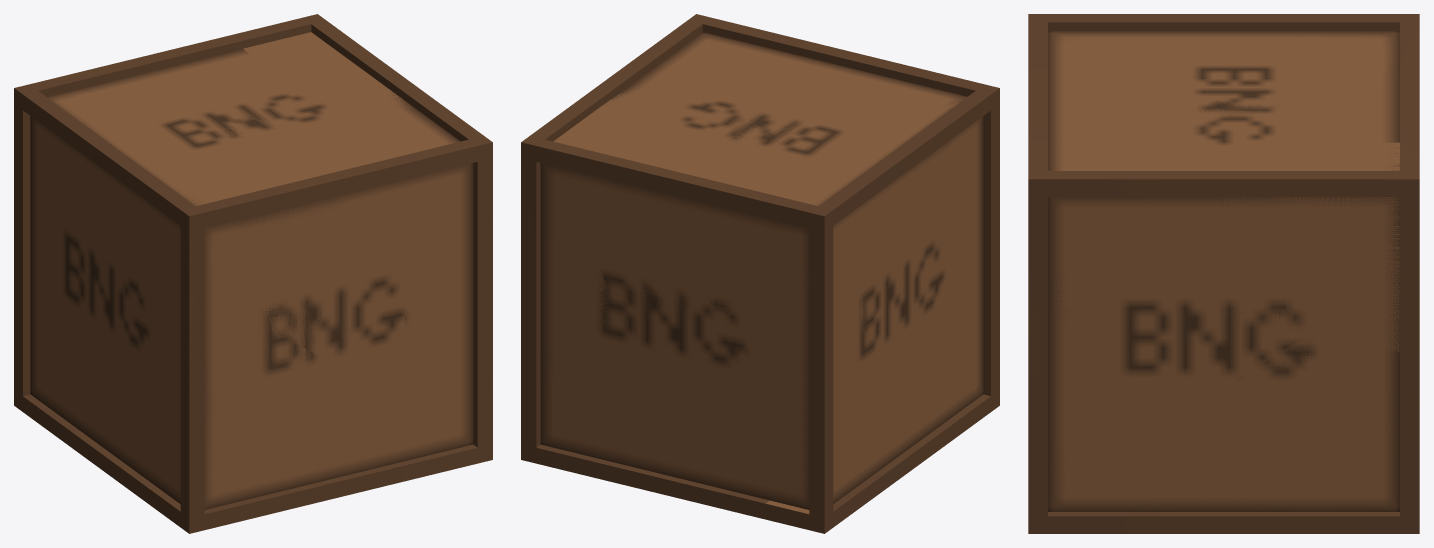
File: BNG_Crate.fbx
3 renders of one model, left to right at view 1: azimuth 30°, elevation 25°; view 2: azimuth 150°, elevation 25°; view 3: azimuth 270°, elevation 25°, orthographic. The views are drawn at different scales.
Parts seen in each view (by area): view 1: BNG_Crate_01, BNG_Crate_01_D26, BNG_Crate_01_D13, BNG_Crate_01_D18, BNG_Crate_01_D21, BNG_Crate_01_D17, BNG_Crate_01_D01, BNG_Crate_01_D28, BNG_Crate_01_D20, BNG_Crate_01_D06, BNG_Crate_01_D22, BNG_Crate_01_D09 (+6 smaller); view 2: BNG_Crate_01, BNG_Crate_01_D18, BNG_Crate_01_D08, BNG_Crate_01_D21, BNG_Crate_01_D07, BNG_Crate_01_D03, BNG_Crate_01_D29, BNG_Crate_01_D19, BNG_Crate_01_D28, BNG_Crate_01_D09, BNG_Crate_01_D22, BNG_Crate_01_D04 (+4 smaller); view 3: BNG_Crate_01, BNG_Crate_01_D02, BNG_Crate_01_D04, BNG_Crate_01_D18, BNG_Crate_01_D21, BNG_Crate_01_D15, BNG_Crate_01_D10, BNG_Crate_01_D28, BNG_Crate_01_D20, BNG_Crate_01_D11, BNG_Crate_01_D24, BNG_Crate_01_D19 (+5 smaller).
Boxes of the visible parts, x1,y1,x2,y2 form: BNG_Crate_01: (14, 14, 492, 533); BNG_Crate_01_D26: (189, 255, 336, 533); BNG_Crate_01_D13: (265, 222, 492, 515); BNG_Crate_01_D18: (185, 86, 492, 222); BNG_Crate_01_D21: (79, 48, 334, 177); BNG_Crate_01_D17: (227, 155, 492, 279); BNG_Crate_01_D01: (268, 223, 404, 351); BNG_Crate_01_D28: (243, 32, 411, 107); BNG_Crate_01_D20: (86, 111, 212, 205); BNG_Crate_01_D06: (141, 247, 204, 533); BNG_Crate_01_D22: (14, 100, 83, 435); BNG_Crate_01_D09: (58, 120, 225, 255); BNG_Crate_01: (521, 24, 999, 533); BNG_Crate_01_D18: (638, 14, 971, 126); BNG_Crate_01_D08: (588, 156, 780, 279); BNG_Crate_01_D21: (622, 84, 906, 196); BNG_Crate_01_D07: (745, 196, 824, 531); BNG_Crate_01_D03: (564, 242, 774, 521); BNG_Crate_01_D29: (521, 140, 612, 301); BNG_Crate_01_D19: (521, 290, 608, 465); BNG_Crate_01_D28: (553, 84, 664, 157); BNG_Crate_01_D09: (866, 81, 999, 236); BNG_Crate_01_D22: (824, 184, 872, 533); BNG_Crate_01_D04: (521, 63, 650, 304); BNG_Crate_01: (1028, 14, 1419, 533); BNG_Crate_01_D02: (1130, 333, 1406, 532); BNG_Crate_01_D04: (1160, 171, 1419, 356); BNG_Crate_01_D18: (1028, 29, 1285, 196); BNG_Crate_01_D21: (1136, 47, 1399, 142); BNG_Crate_01_D15: (1028, 268, 1135, 516); BNG_Crate_01_D10: (1028, 184, 1222, 276); BNG_Crate_01_D28: (1195, 142, 1399, 170); BNG_Crate_01_D20: (1048, 33, 1311, 68); BNG_Crate_01_D11: (1190, 238, 1311, 426); BNG_Crate_01_D24: (1312, 31, 1399, 68); BNG_Crate_01_D19: (1400, 356, 1419, 532).
Bounding box in the file's own units: 100 × 100 × 100.
